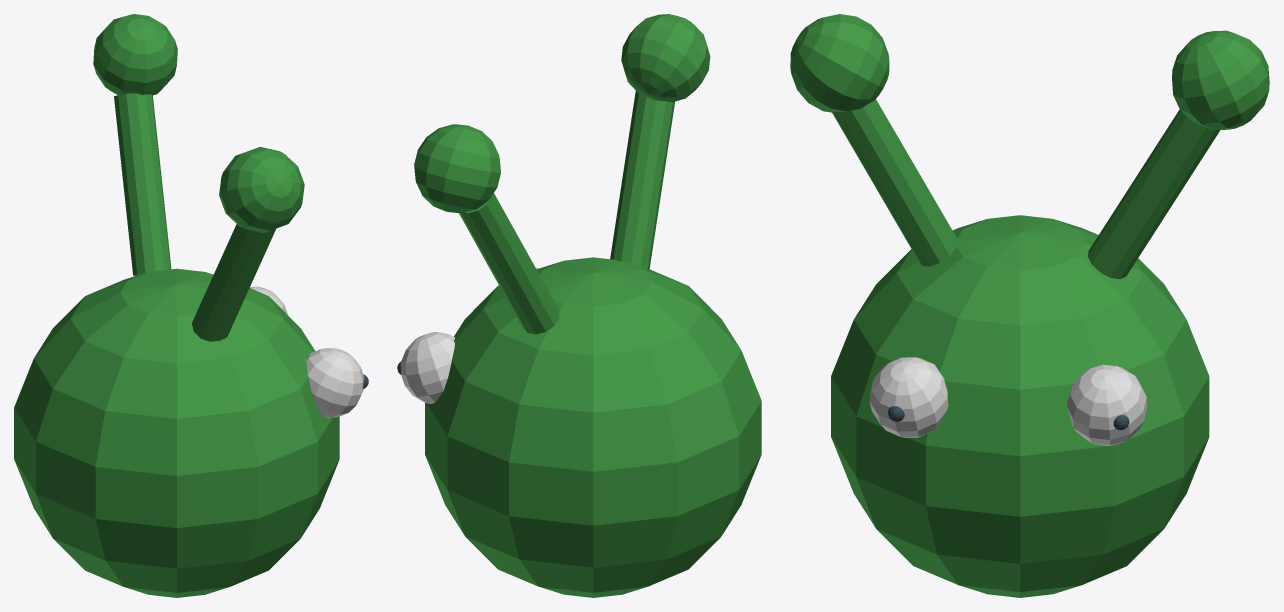
3 renders of one model, left to right at view 1: azimuth 30°, elevation 25°; view 2: azimuth 150°, elevation 25°; view 3: azimuth 270°, elevation 25°, orthographic. The views are drawn at different scales.
Parts seen in each view (by area): view 1: node_MeshObject450052096-PolyPaper21; view 2: node_MeshObject450052096-PolyPaper21; view 3: node_MeshObject450052096-PolyPaper21.
Boxes of the visible parts, x1,y1,x2,y2 form: node_MeshObject450052096-PolyPaper21: [14, 14, 368, 597]; node_MeshObject450052096-PolyPaper21: [397, 14, 761, 597]; node_MeshObject450052096-PolyPaper21: [790, 14, 1269, 597].
Size of the model in its own units: 0.4202 by 0.6888 by 0.5238.
